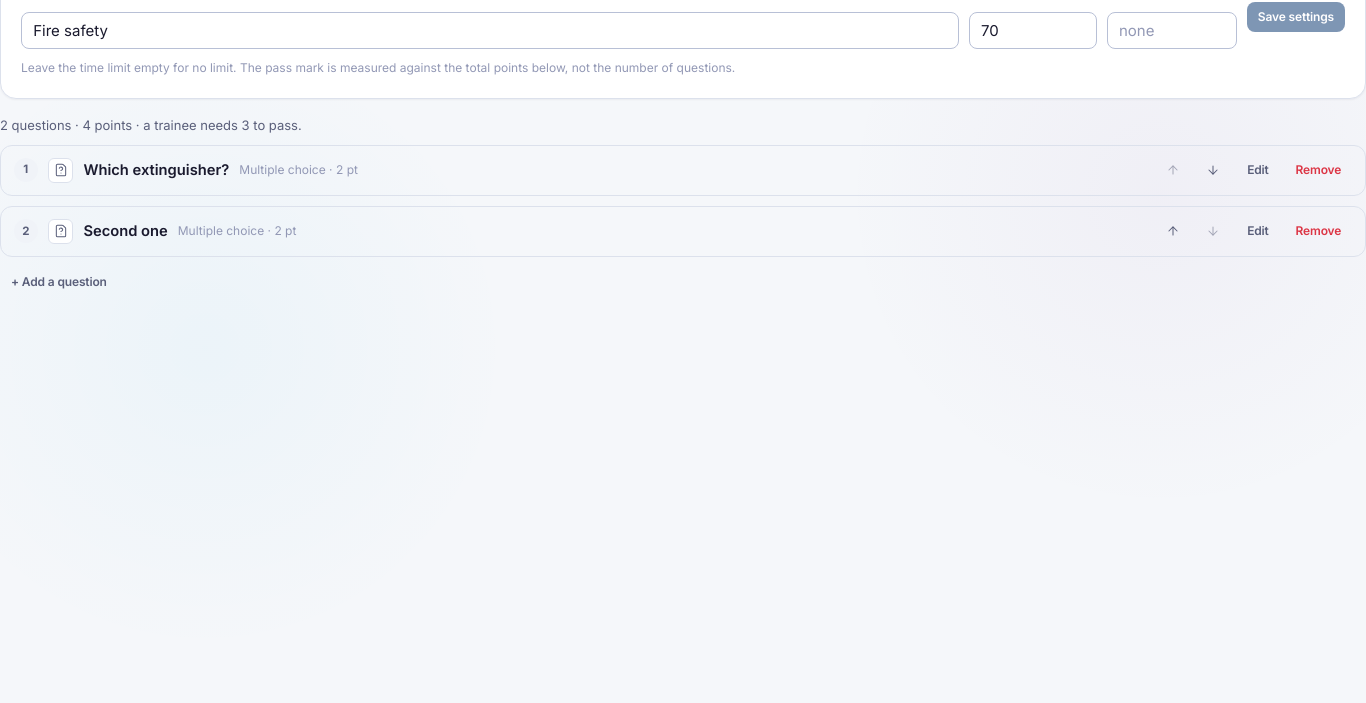
Test case: editing an existing question › keeps each open form addressing its own fields
The width and height of the screenshot is (1366, 703).
Click the button "Edit" in the row of "Which extinguisher?". click: (1258,170)
box: [1236, 155, 1280, 185]
(page scrolled)
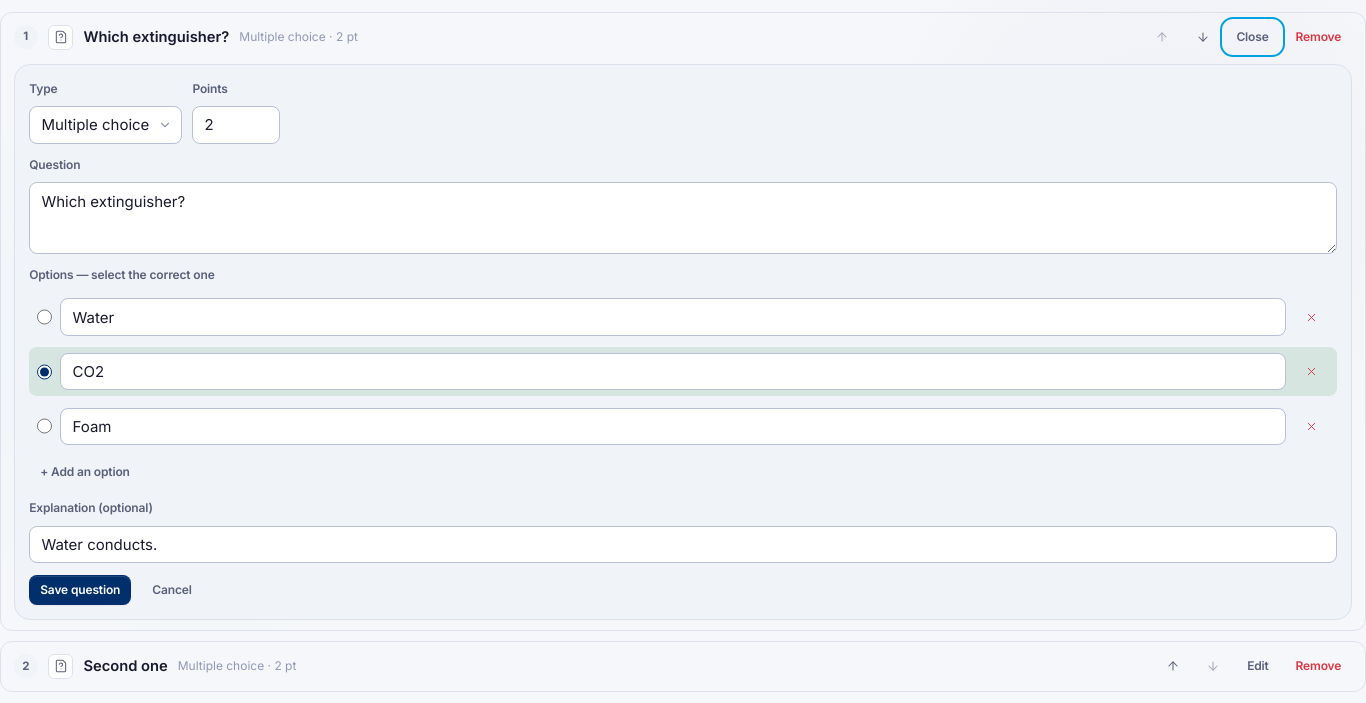
Click the button "Edit". click: (1258,666)
box: [1236, 652, 1280, 682]
(page scrolled)
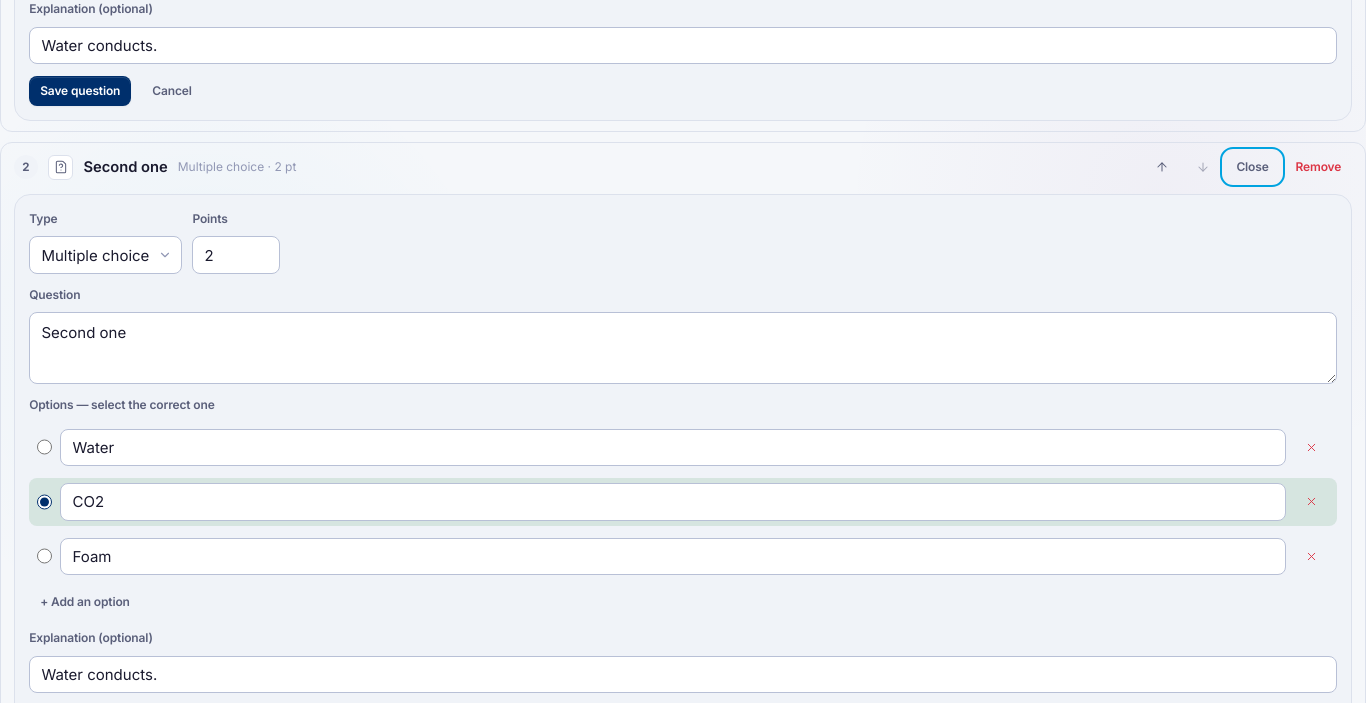
Now the number of fields labelled "Question" is 2
Now the text box labelled "Question" holds "Second one", box [29, 312, 1337, 384]
